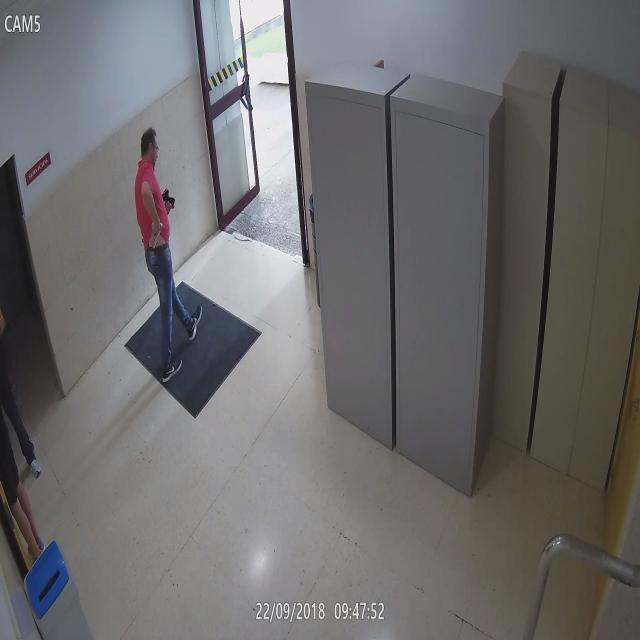weapon: (161, 190, 174, 208)
